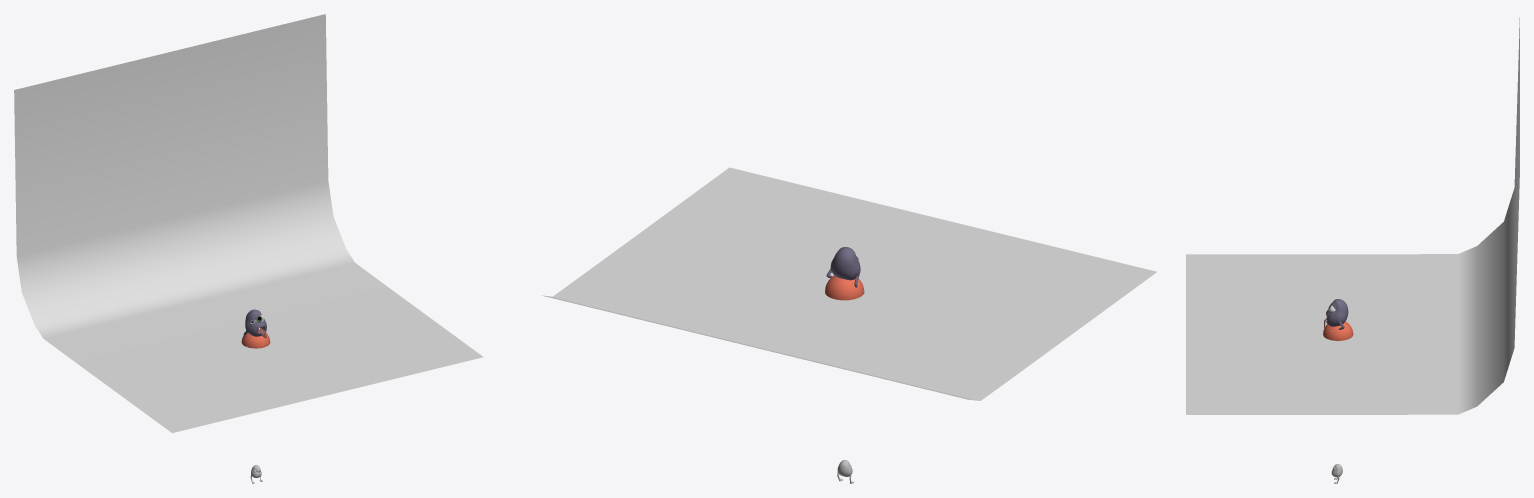
The model's file is Bean_Monster_Instancing_V1.glb.
The picture shows the model from 3 angles, left to right: view 1: azimuth 30°, elevation 25°; view 2: azimuth 150°, elevation 25°; view 3: azimuth 270°, elevation 25°; orthographic projection. The views are drawn at different scales.
Visible parts, largest first — view 1: Plane, Bean_Monster_Geo; view 2: Plane, Bean_Monster_Geo, Instance Child on Parent; view 3: Plane, Bean_Monster_Geo, Instance Child on Parent.
Part boxes in pixels (x1,y1,x2,y2): Plane: [14, 14, 483, 432]; Bean_Monster_Geo: [243, 309, 268, 346]; Plane: [541, 167, 1156, 400]; Bean_Monster_Geo: [826, 247, 864, 293]; Instance Child on Parent: [825, 275, 864, 300]; Plane: [1186, 17, 1519, 414]; Bean_Monster_Geo: [1324, 299, 1348, 332]; Instance Child on Parent: [1323, 321, 1353, 340].
Size of the model in its own units: 501 by 563 by 440.
